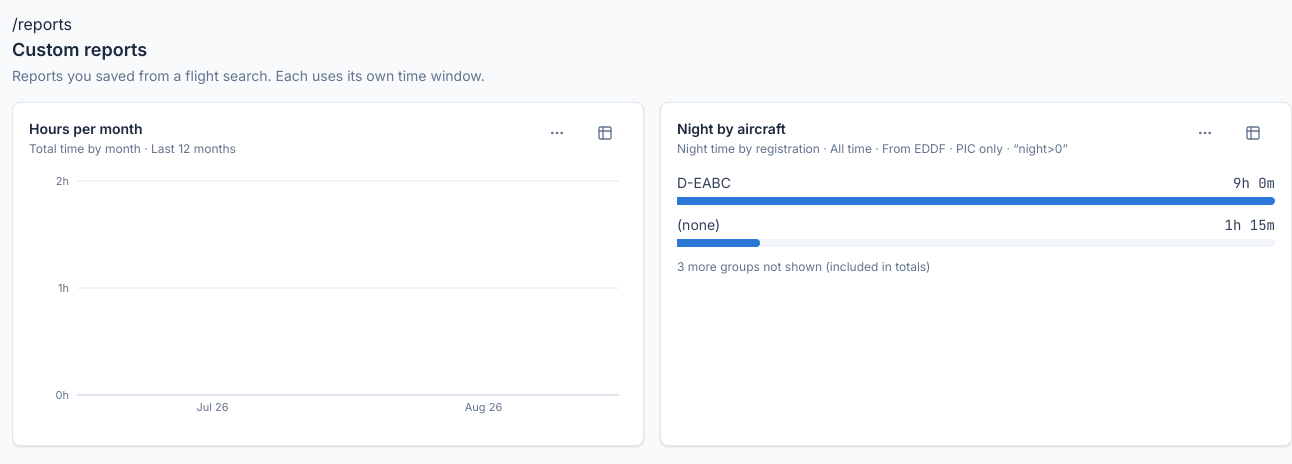
Test: CustomReportsSection › opens the flights of a windowed report bounded by the resolved dates
Step 1. Click the button named "Actions for Hours per month" → (557, 133), box [535,111,579,155]
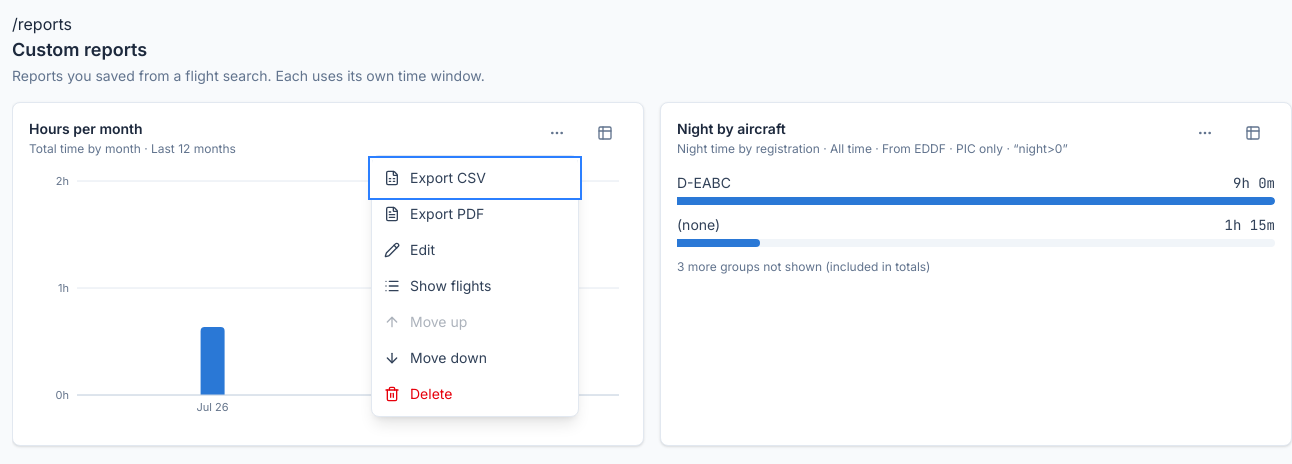
Step 2. Click the menu item "Show flights" → (475, 286), box [372,268,578,304]
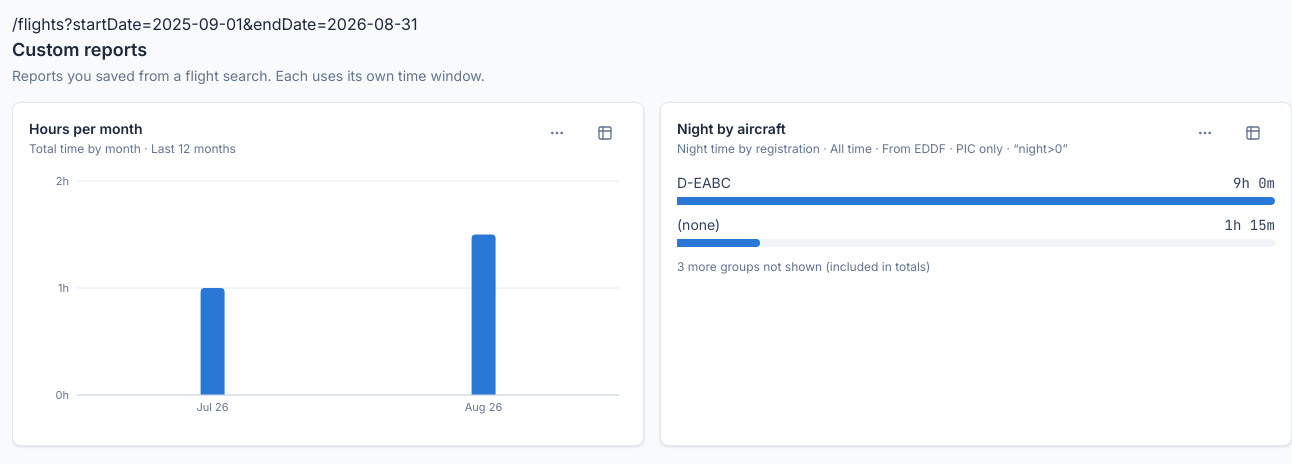
Expected: the text with test id "where" reads "/flights?startDate=2025-09-01&endDate=2026-08-31", [12,14,418,34]
